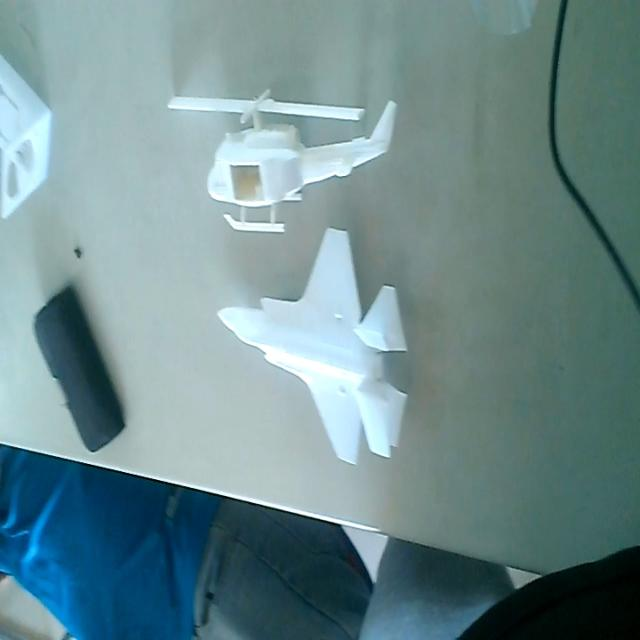Helicopter: (168, 78, 399, 234)
Jet: (218, 223, 406, 475)
